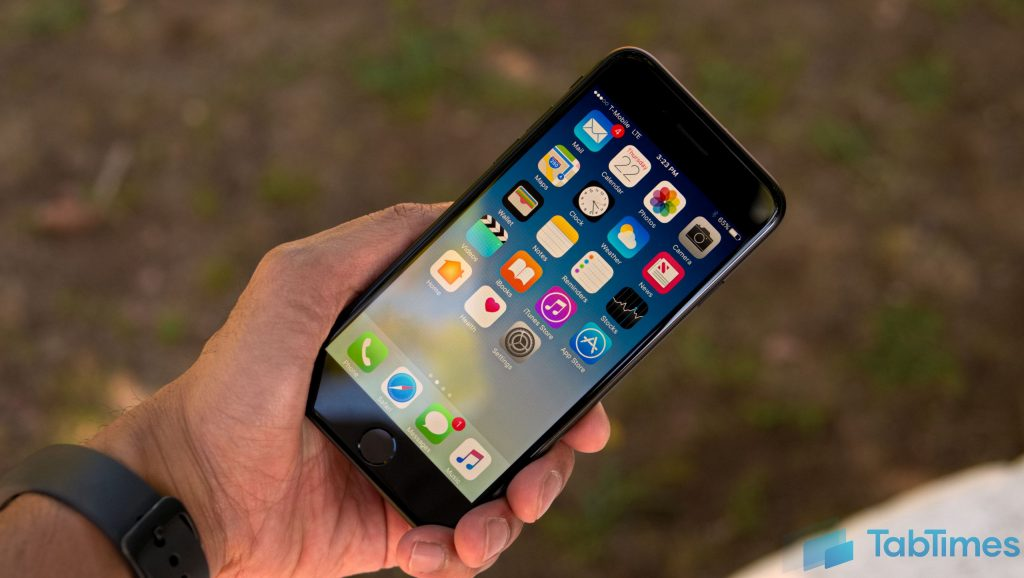smartphone: (304, 46, 787, 529)
